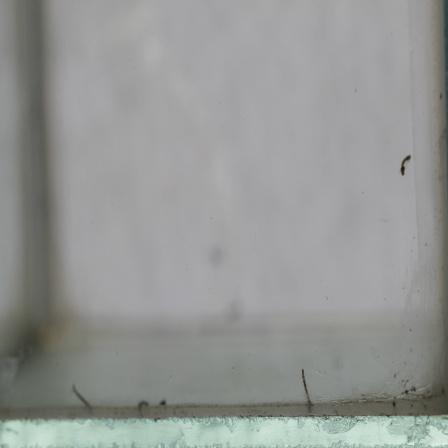Jentik-Nyamuk: (298, 367, 316, 409), (396, 148, 413, 180)
